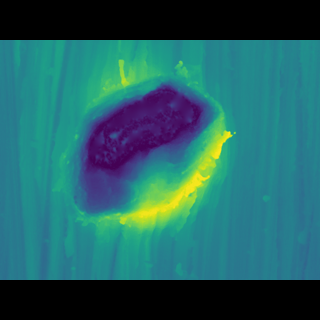Loch: (51, 85, 240, 223)
